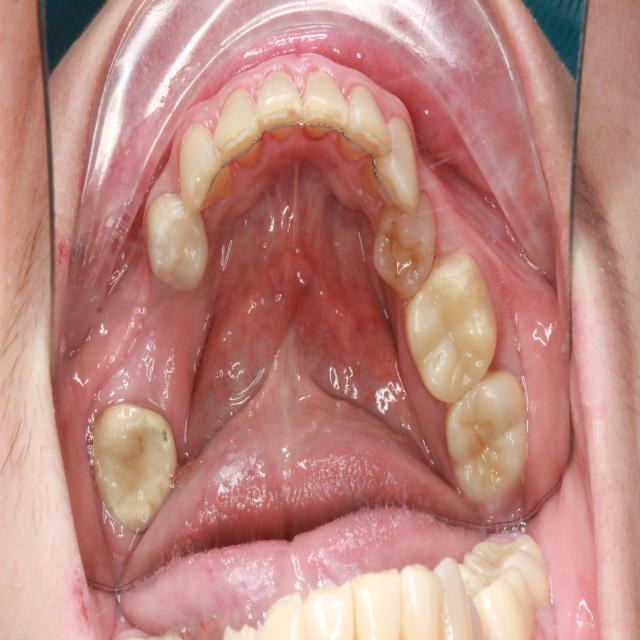tooth: (394, 240, 504, 409), (82, 400, 184, 538), (440, 365, 533, 515), (366, 189, 442, 303), (140, 188, 212, 295), (358, 103, 425, 214), (175, 119, 234, 220), (337, 79, 395, 166), (210, 83, 265, 170), (296, 67, 350, 147), (253, 69, 304, 145)
